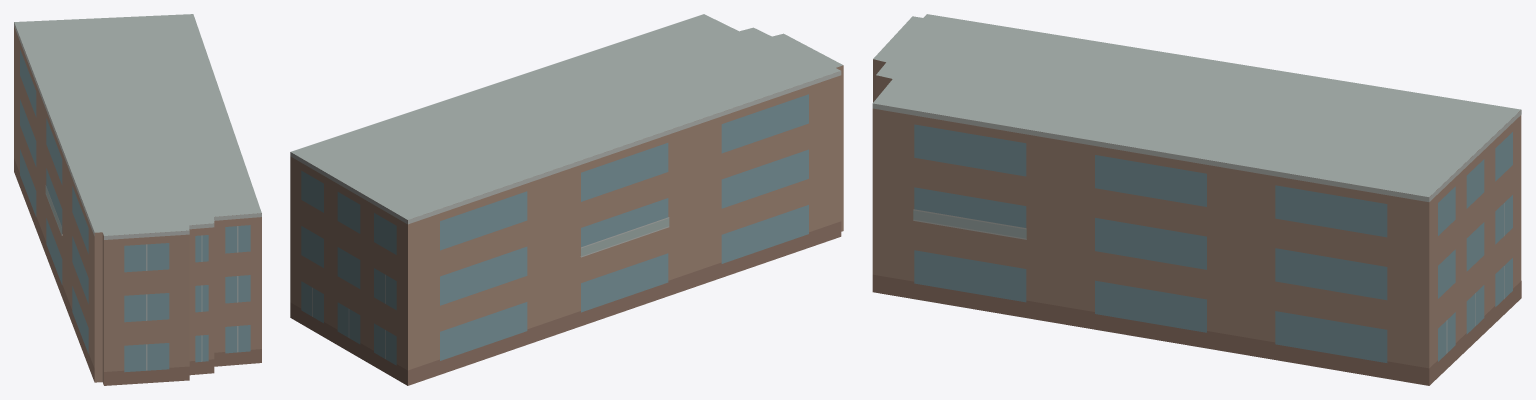
Rendered from survey-upis-32671187.glb.
3 views of the same model, side by side, from view 1: azimuth 30°, elevation 25°; view 2: azimuth 150°, elevation 25°; view 3: azimuth 270°, elevation 25° (orthographic). The views are drawn at different scales.
Visible parts, largest first — view 1: survey-upis-32671187.tmp; view 2: survey-upis-32671187.tmp; view 3: survey-upis-32671187.tmp.
Part boxes in pixels (bbox=[...]): survey-upis-32671187.tmp: bbox=[14, 14, 261, 385]; survey-upis-32671187.tmp: bbox=[290, 14, 843, 385]; survey-upis-32671187.tmp: bbox=[872, 14, 1521, 385].
Bounding box in the file's own units: 19.07 × 9.15 × 28.53.
